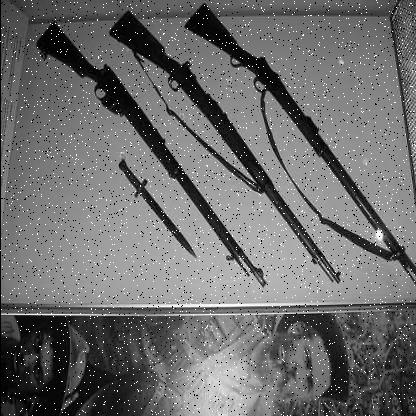rifle: (104, 13, 346, 299), (184, 10, 416, 300), (32, 27, 275, 293)
